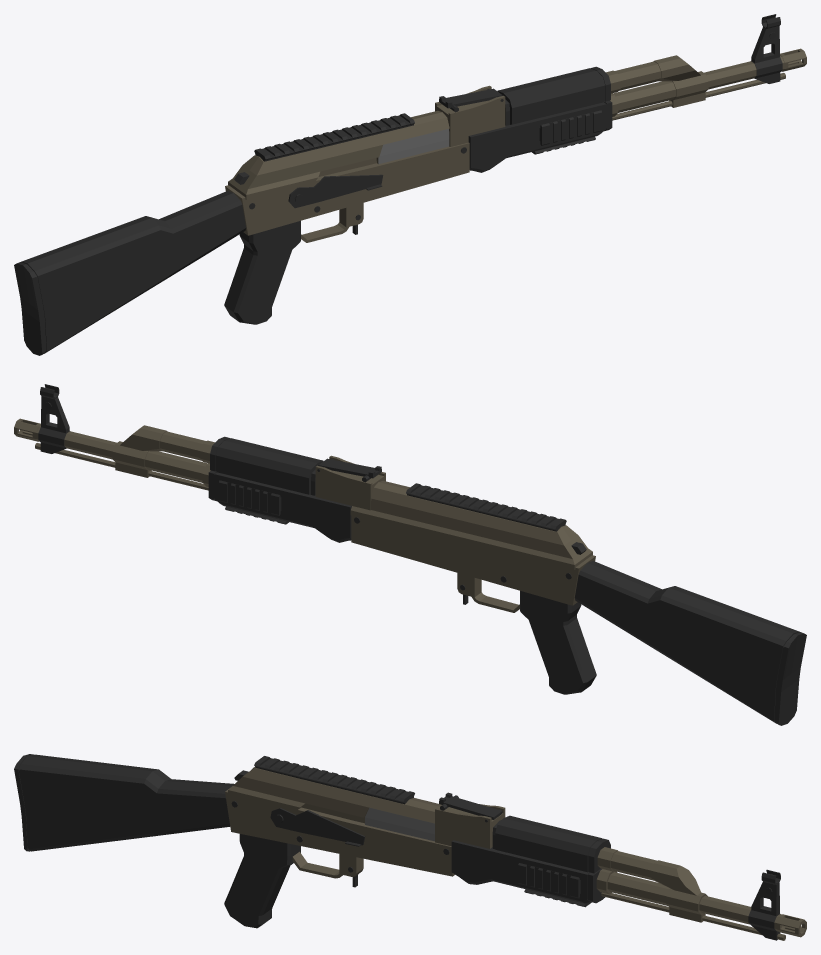
Rendered from AssaultRifle1_02.fbx.
3 renders of one model, top to bottom at view 1: azimuth 30°, elevation 25°; view 2: azimuth 150°, elevation 25°; view 3: azimuth 330°, elevation 25°, orthographic.
Visible parts, largest first — view 1: AssaultRifle1_02; view 2: AssaultRifle1_02; view 3: AssaultRifle1_02.
Part boxes in pixels (bbox=[...]): AssaultRifle1_02: bbox=[14, 14, 806, 355]; AssaultRifle1_02: bbox=[14, 384, 806, 725]; AssaultRifle1_02: bbox=[14, 754, 806, 940].
Bounding box in the file's own units: 0.9618 × 0.2088 × 0.051.
